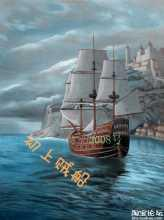fanchuan: (58, 38, 141, 156)
